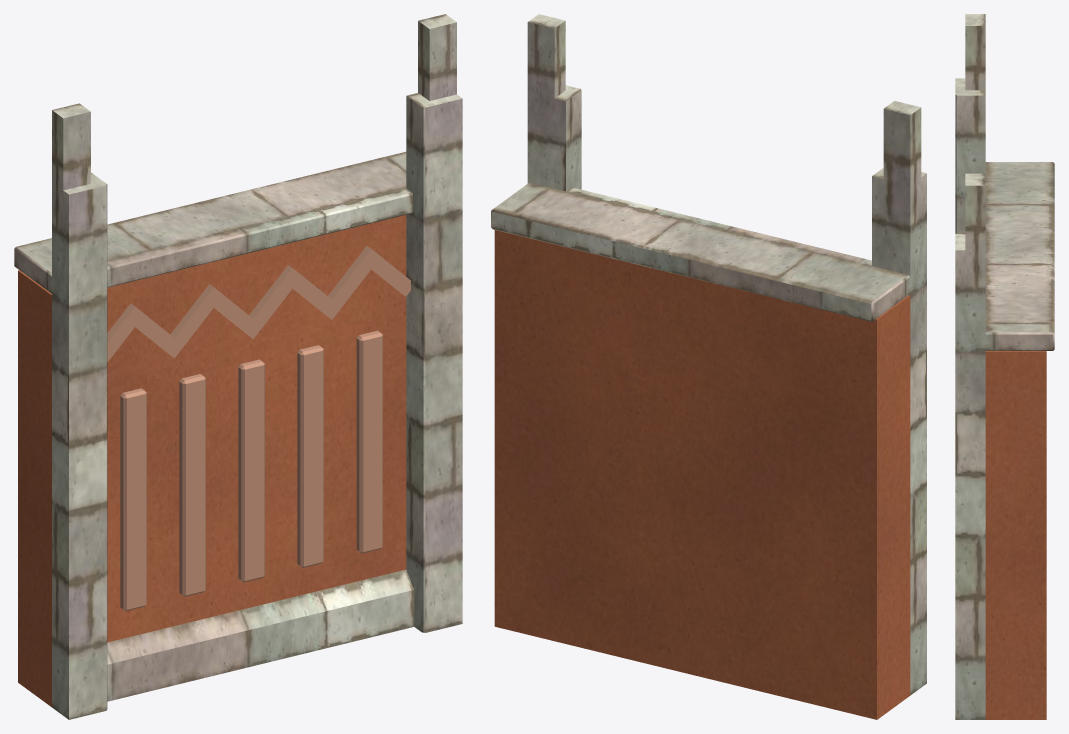
The model's file is crown.glb.
3 renders of one model, left to right at view 1: azimuth 30°, elevation 25°; view 2: azimuth 150°, elevation 25°; view 3: azimuth 270°, elevation 25°, orthographic. The views are drawn at different scales.
Parts seen in each view (by area): view 1: crown_stone, crown_terra, crown_terra2; view 2: crown_terra, crown_stone; view 3: crown_stone, crown_terra.
Boxes of the visible parts, x1=… form: crown_stone: x1=14, y1=14, x2=462, y2=719; crown_terra: x1=18, y1=215, x2=406, y2=707; crown_terra2: x1=107, y1=246, x2=410, y2=611; crown_terra: x1=494, y1=230, x2=910, y2=719; crown_stone: x1=491, y1=14, x2=926, y2=695; crown_stone: x1=955, y1=14, x2=1054, y2=719; crown_terra: x1=985, y1=351, x2=1046, y2=719.
Size of the model in its own units: 2 by 2.9 by 0.49.
Materials: 3 (2 with a texture image).
